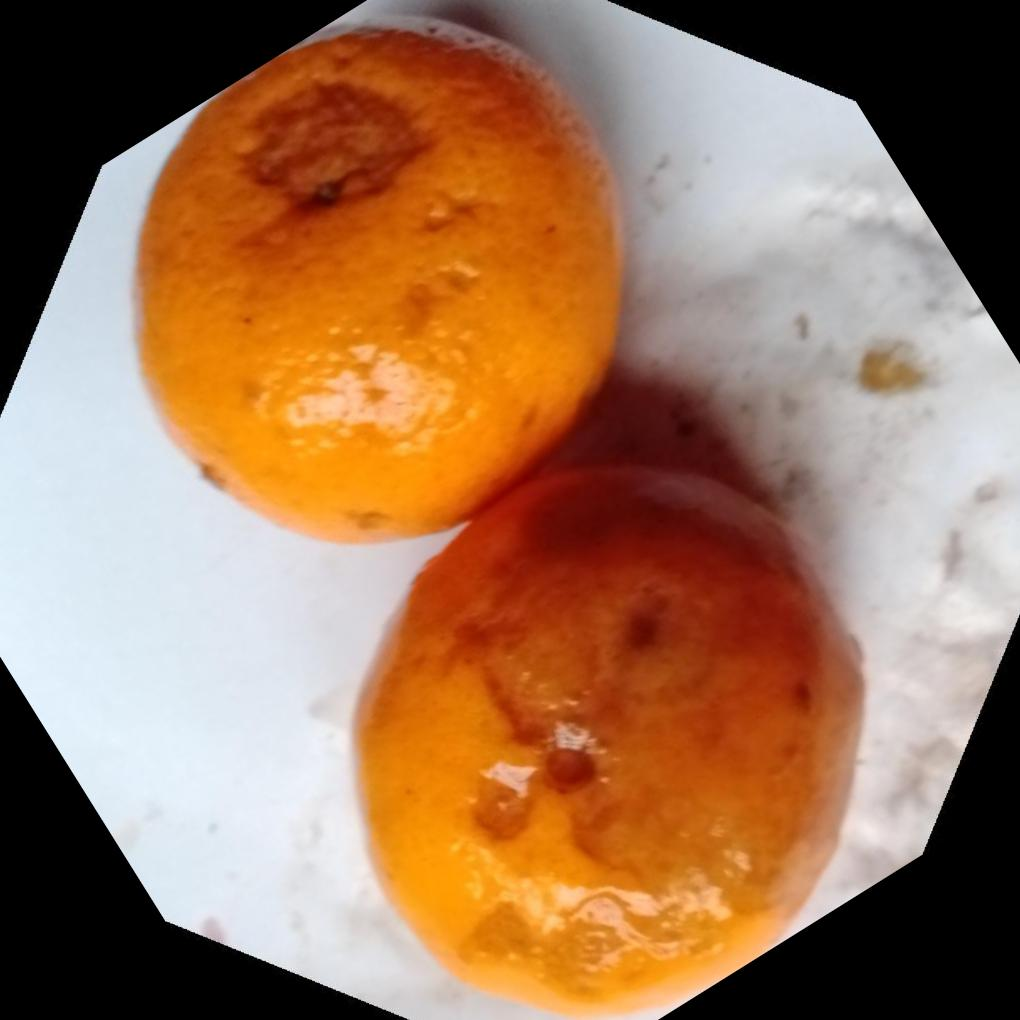FreshOrange: (132, 11, 869, 1020)
